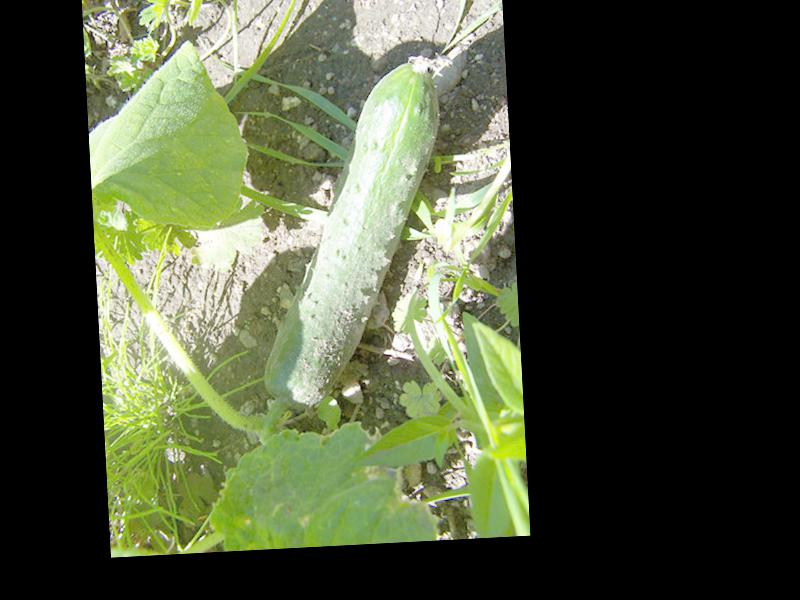Cucumber: (247, 56, 455, 414)
